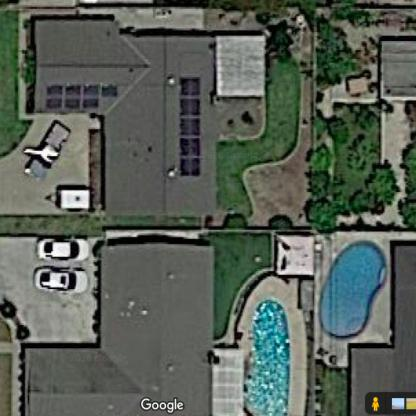car: (32, 267, 93, 304), (33, 227, 95, 263)
solar_panel: (167, 71, 207, 188), (42, 76, 120, 111)
swimming_pool: (233, 289, 302, 416), (314, 228, 388, 340)
